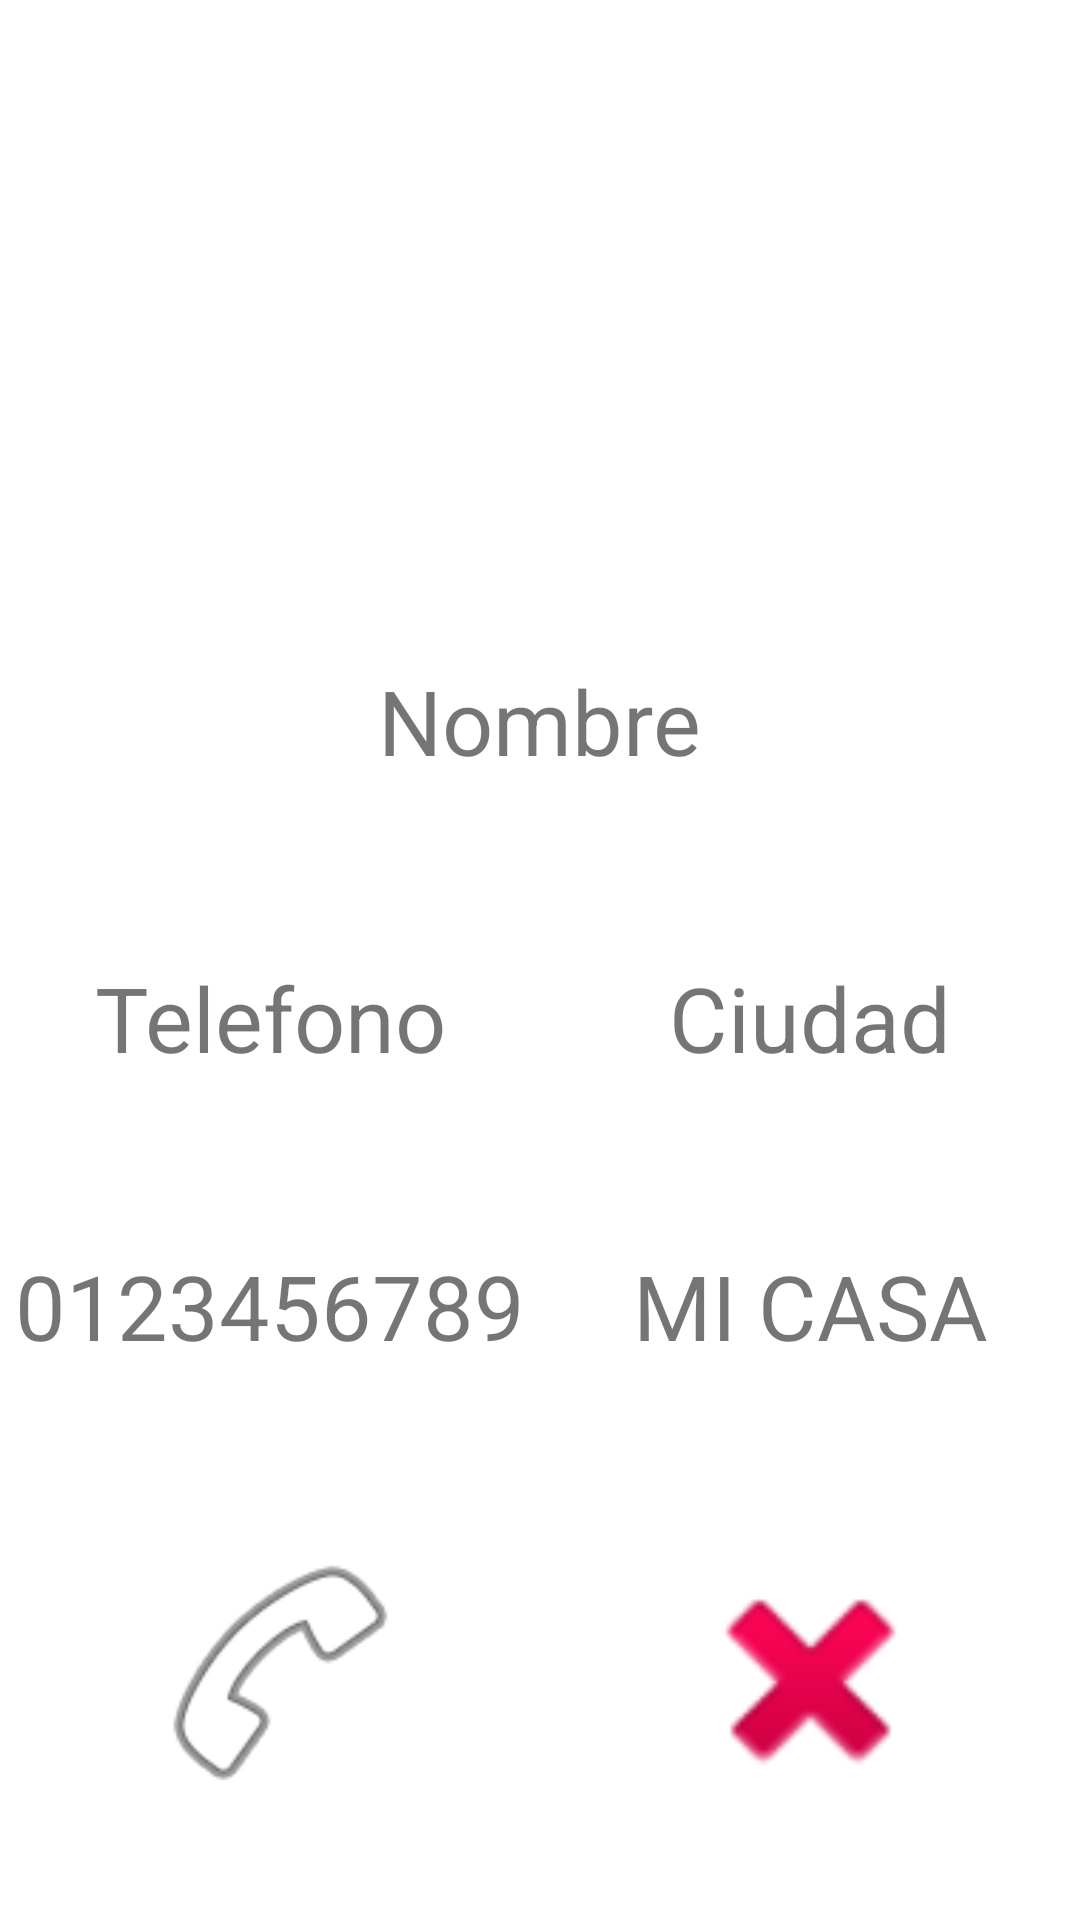

Icons on this 1080×1920 Android screen, each with the point to tap as point (x, y):
call: point (280, 1673)
delete: point (810, 1681)
